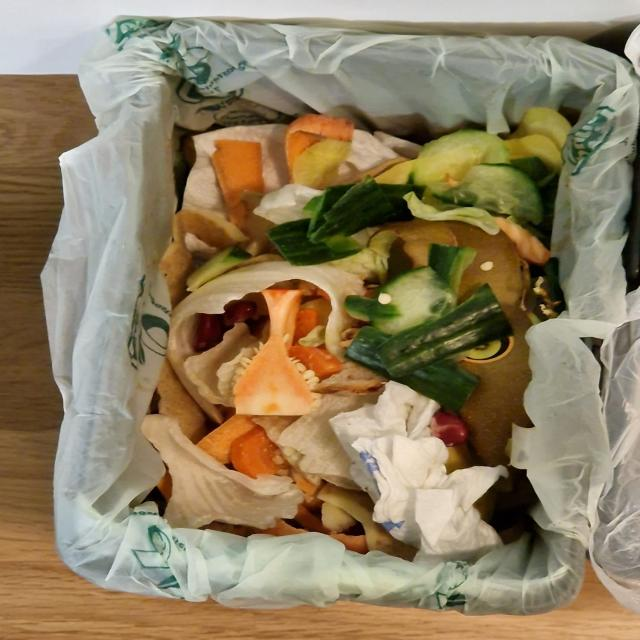kitchen paper: (328, 379, 525, 560)
